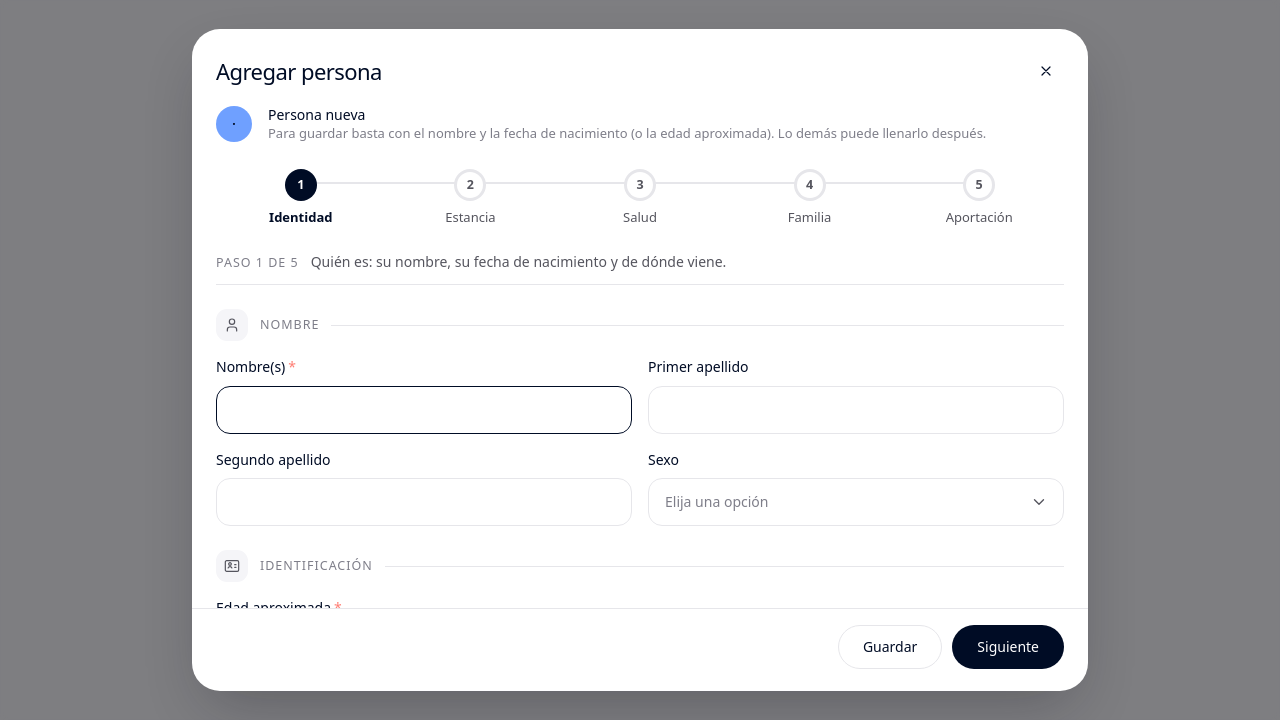
Test: the record of a person served › health goes only as categories
Click the button "Siguiente": (1008, 647) 952,625 -> 1064,669
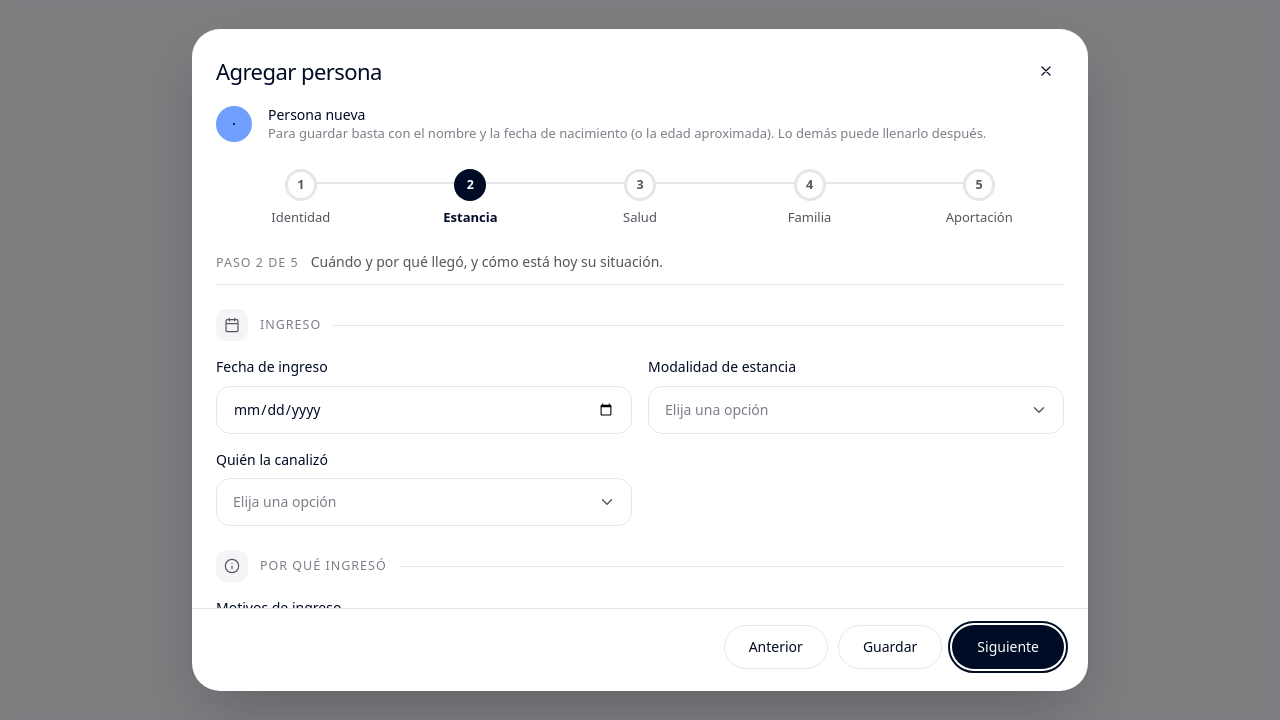
Click the button "Siguiente": (1008, 647) 952,625 -> 1064,669
(page scrolled)
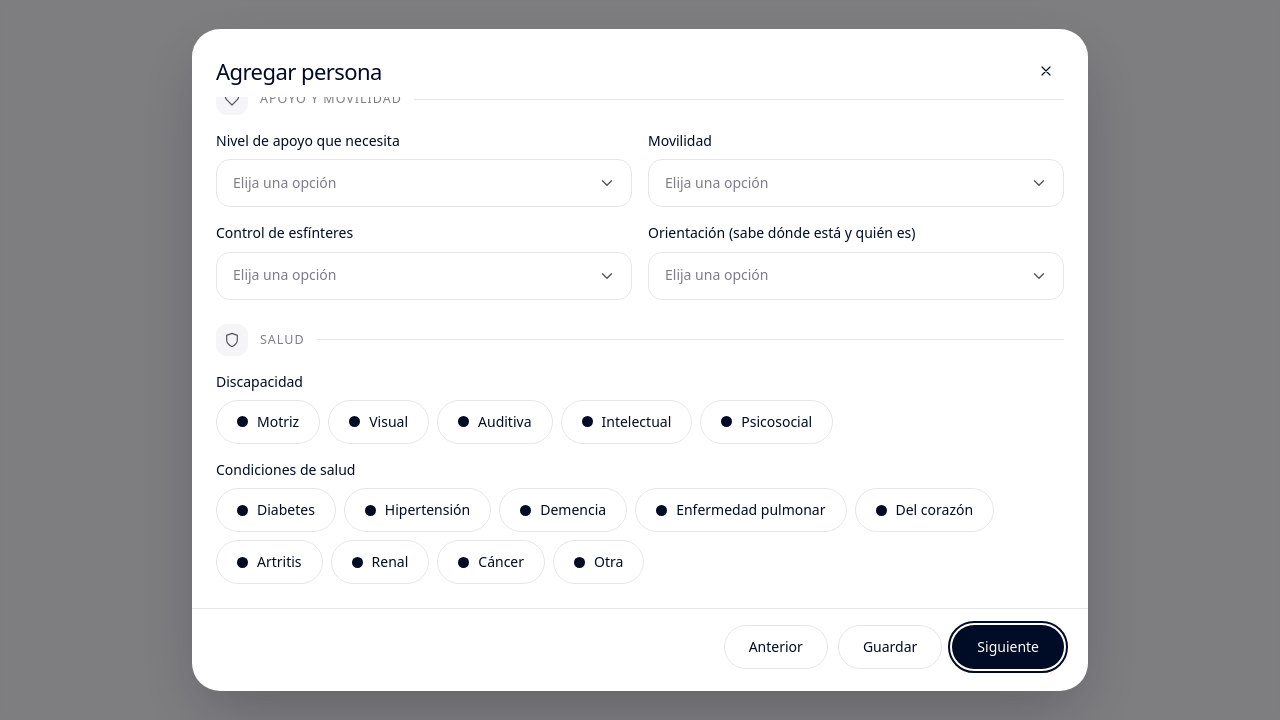
Check: the text "Diabetes" is shown, box 216,488 -> 336,532
